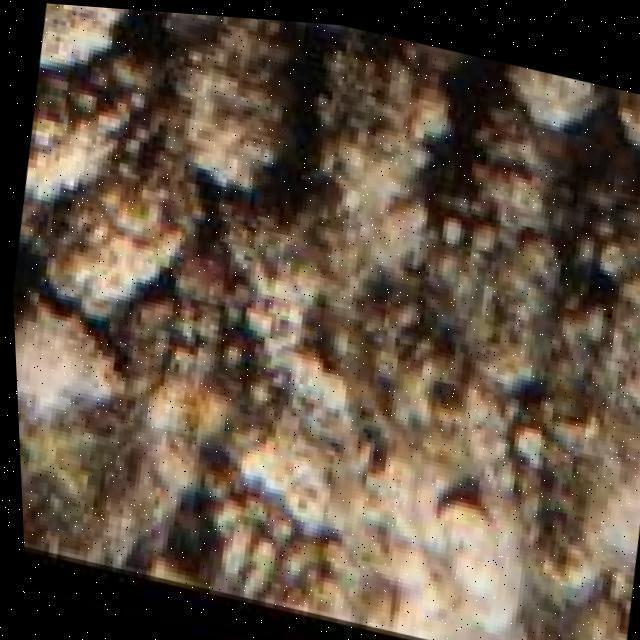Dead Coral: (21, 60, 640, 361)
